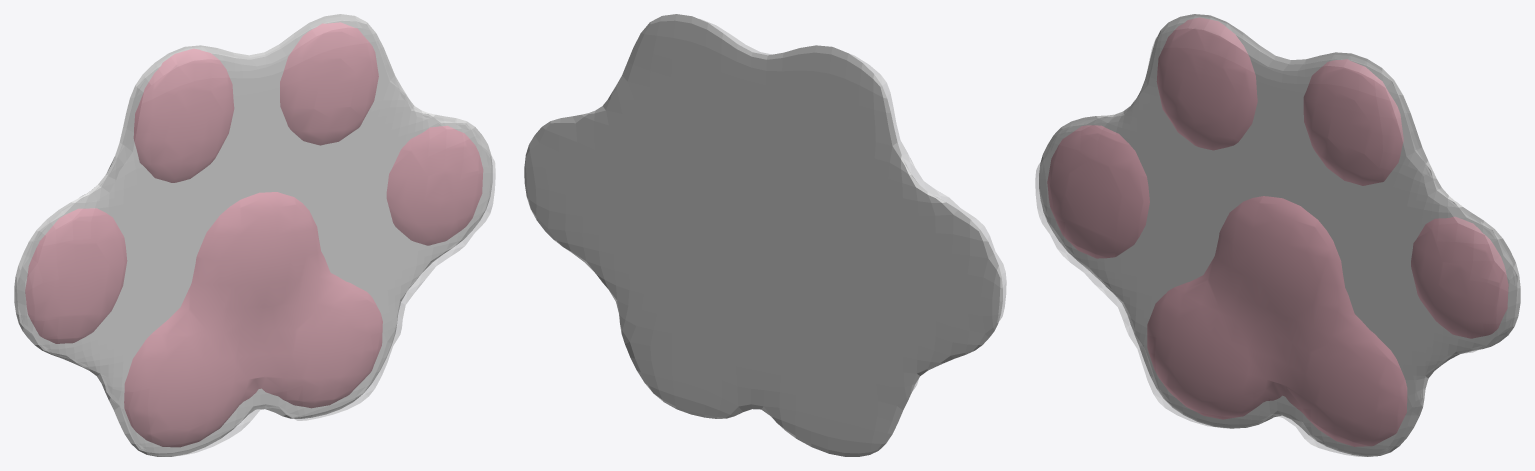
The model's file is nikukyu.glb.
The picture shows the model from 3 angles, left to right: view 1: azimuth 30°, elevation 25°; view 2: azimuth 150°, elevation 25°; view 3: azimuth 330°, elevation 25°; orthographic projection.
Visible parts, largest first — view 1: 平面.001, メタボール.007, 平面; view 2: 平面, 平面.001; view 3: 平面.001, メタボール.007, 平面.
Boxes of the visible parts, x1,y1,x2,y2 form: 平面.001: (15, 17, 495, 456); メタボール.007: (25, 22, 483, 447); 平面: (14, 14, 492, 456); 平面: (524, 14, 1002, 456); 平面.001: (700, 19, 1006, 391); 平面.001: (1035, 16, 1518, 456); メタボール.007: (1047, 17, 1508, 446); 平面: (1039, 14, 1520, 456).
Size of the model in its own units: 2.48 by 2.02 by 0.0958.
